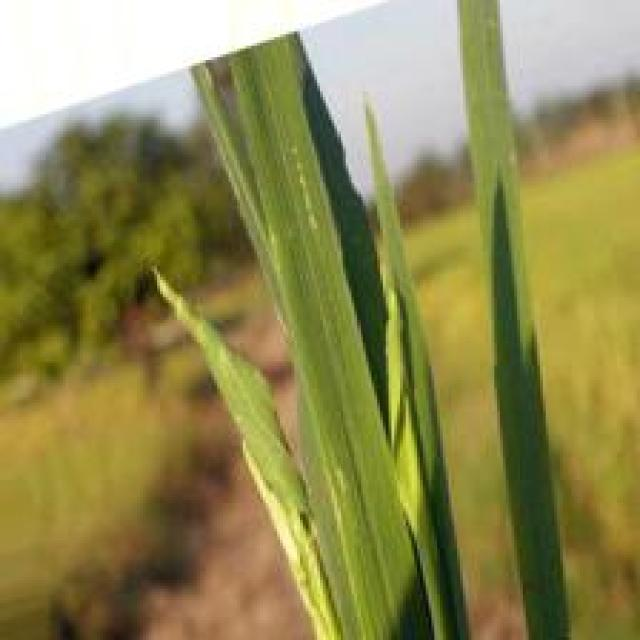Unhealthy: (298, 158, 320, 227), (331, 462, 349, 495)
